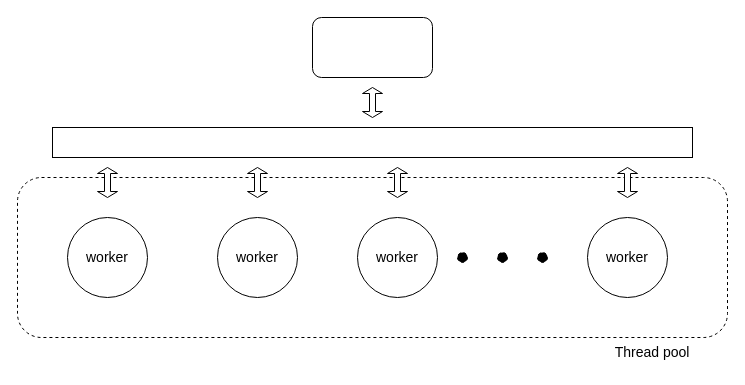
Image size: 745x385. Some labels were removed from this diagram. The shapes that lost their labels are listed below. From the top down, each one's box as (x1, y1, x2, y2) in pixels, then its label:
(312, 16, 432, 78): main thread
(52, 126, 692, 158): bidirectional message queue
